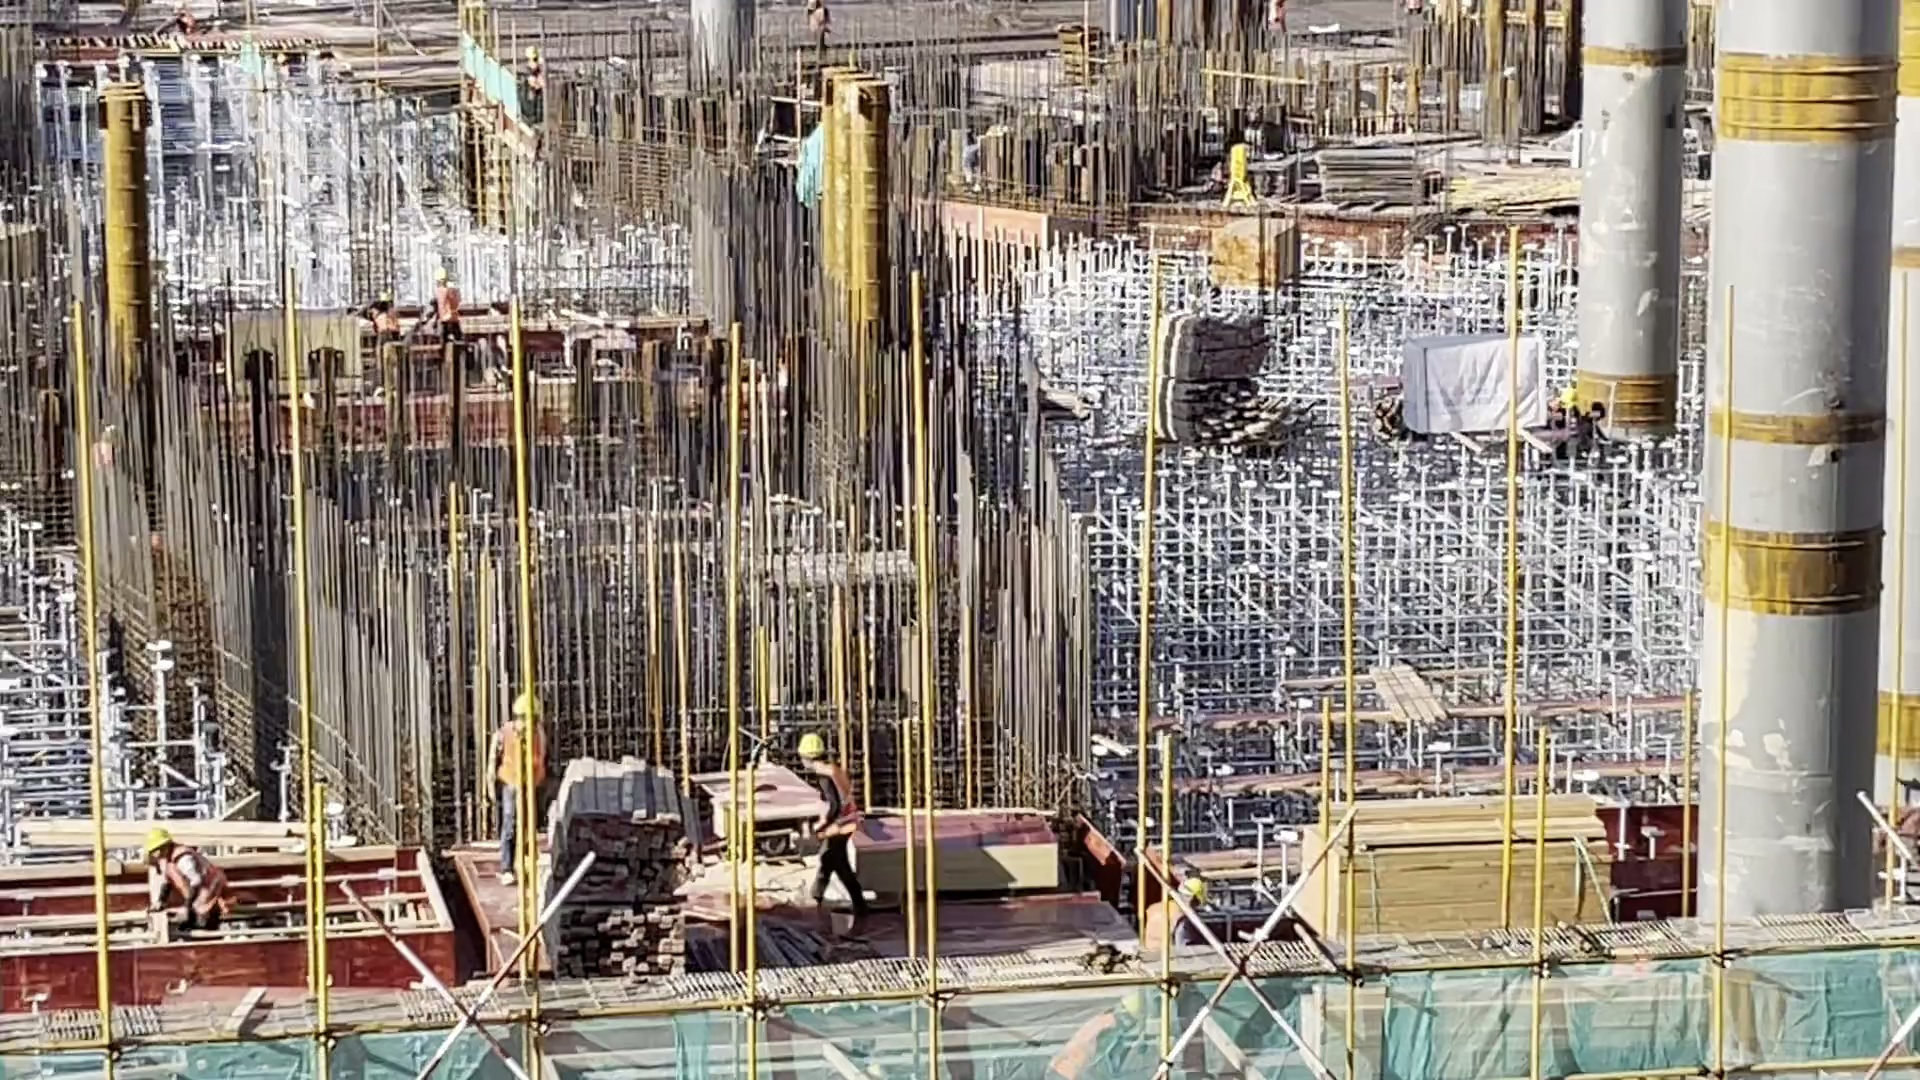helmet: (504, 692, 545, 726), (137, 824, 178, 856), (1186, 868, 1215, 901), (798, 730, 823, 755)
person: (118, 812, 273, 946), (786, 720, 870, 934), (474, 683, 552, 878), (1156, 856, 1215, 956), (347, 274, 391, 360), (425, 267, 458, 354)
vest: (150, 856, 246, 926), (804, 768, 853, 842), (501, 729, 548, 792), (1141, 893, 1182, 946)
